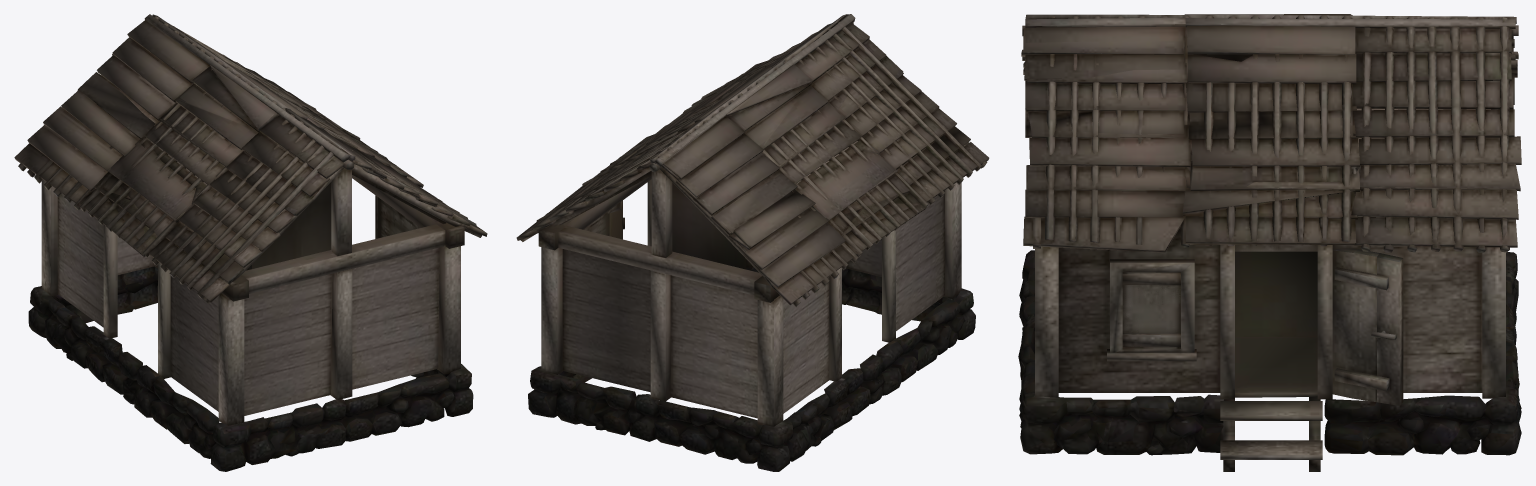
File: threshing-hut.glb
3 renders of one model, left to right at view 1: azimuth 30°, elevation 25°; view 2: azimuth 150°, elevation 25°; view 3: azimuth 270°, elevation 25°, orthographic. The views are drawn at different scales.
Parts seen in each view (by area): view 1: tripo_node_6d698f57-d2fe-462f-92e1-b3eddce125a7; view 2: tripo_node_6d698f57-d2fe-462f-92e1-b3eddce125a7; view 3: tripo_node_6d698f57-d2fe-462f-92e1-b3eddce125a7.
Part boxes in pixels (x1,y1,x2,y2): tripo_node_6d698f57-d2fe-462f-92e1-b3eddce125a7: (14,14,487,471); tripo_node_6d698f57-d2fe-462f-92e1-b3eddce125a7: (516,14,989,471); tripo_node_6d698f57-d2fe-462f-92e1-b3eddce125a7: (1018,14,1521,471).
Bounding box in the file's own units: 0.9043 × 0.7949 × 0.998.
1 material, 1 textured.
